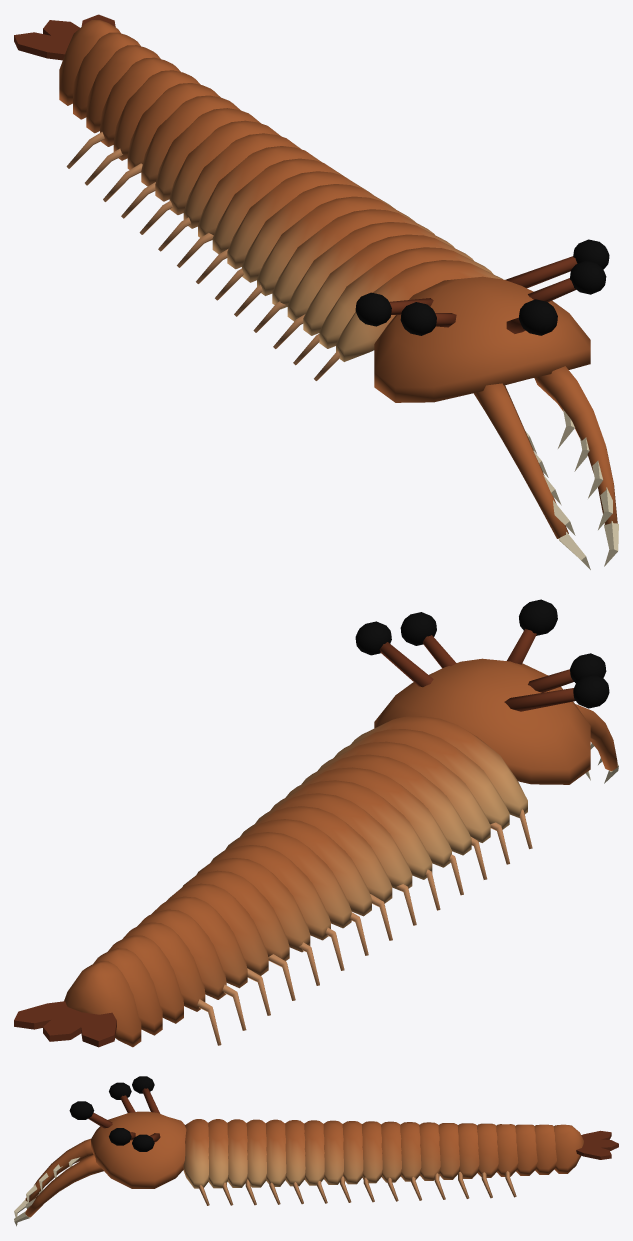
File: Kylinxia.fbx
The picture shows the model from 3 angles, top to bottom: view 1: azimuth 30°, elevation 25°; view 2: azimuth 150°, elevation 25°; view 3: azimuth 270°, elevation 25°; orthographic projection. The views are drawn at different scales.
Parts seen in each view (by area): view 1: Kylinxia; view 2: Kylinxia; view 3: Kylinxia.
Part boxes in pixels (left/top/right/bottom): Kylinxia: left=14, top=14, right=618, bottom=569; Kylinxia: left=14, top=599, right=618, bottom=1047; Kylinxia: left=14, top=1076, right=618, bottom=1226.
Bounding box in the file's own units: 0.4095 × 0.3542 × 1.58.
